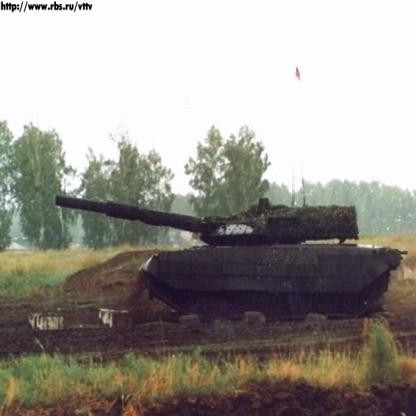Tank: (50, 185, 406, 320)
